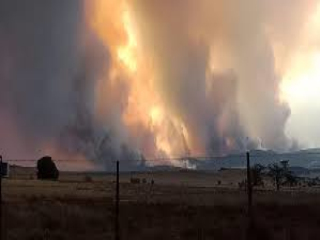smoke: (180, 41, 243, 154), (240, 52, 305, 153), (66, 119, 152, 170), (162, 149, 202, 173)
